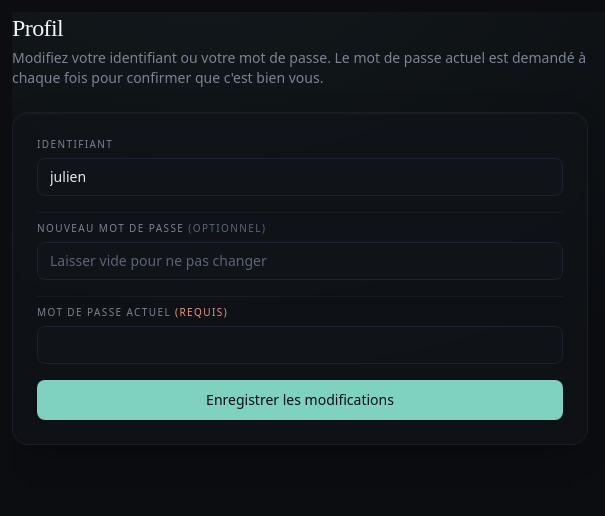
it: Profile › rejects submits with nothing to change
In the 2nd password field: x=300, y=345 37,326 -> 563,364, type "existing"
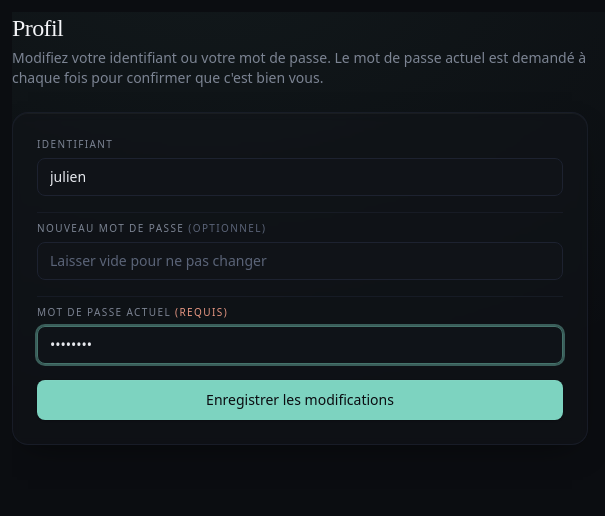
Click the button "Enregistrer les modifications": x=300, y=400 37,380 -> 563,420
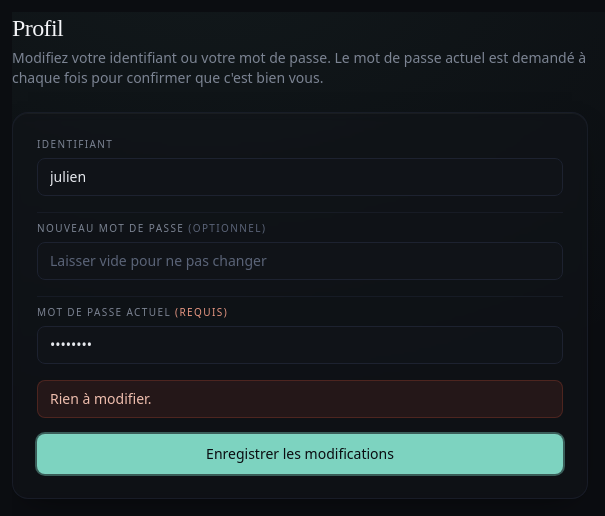
Check: the text "Rien à modifier." is shown, box 37,380 -> 563,418
